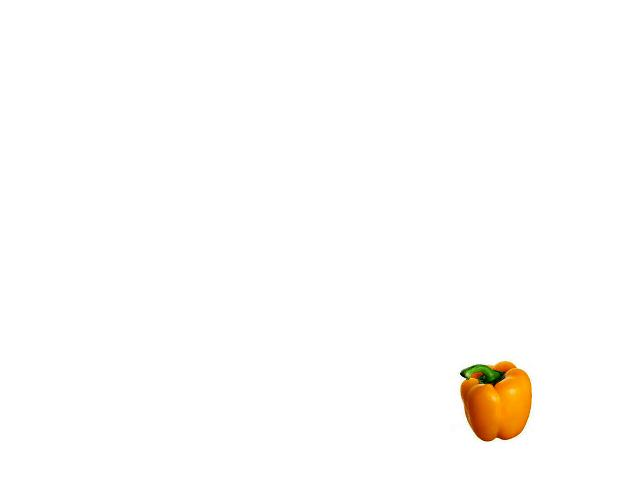bell_pepper: (452, 354, 537, 444)
